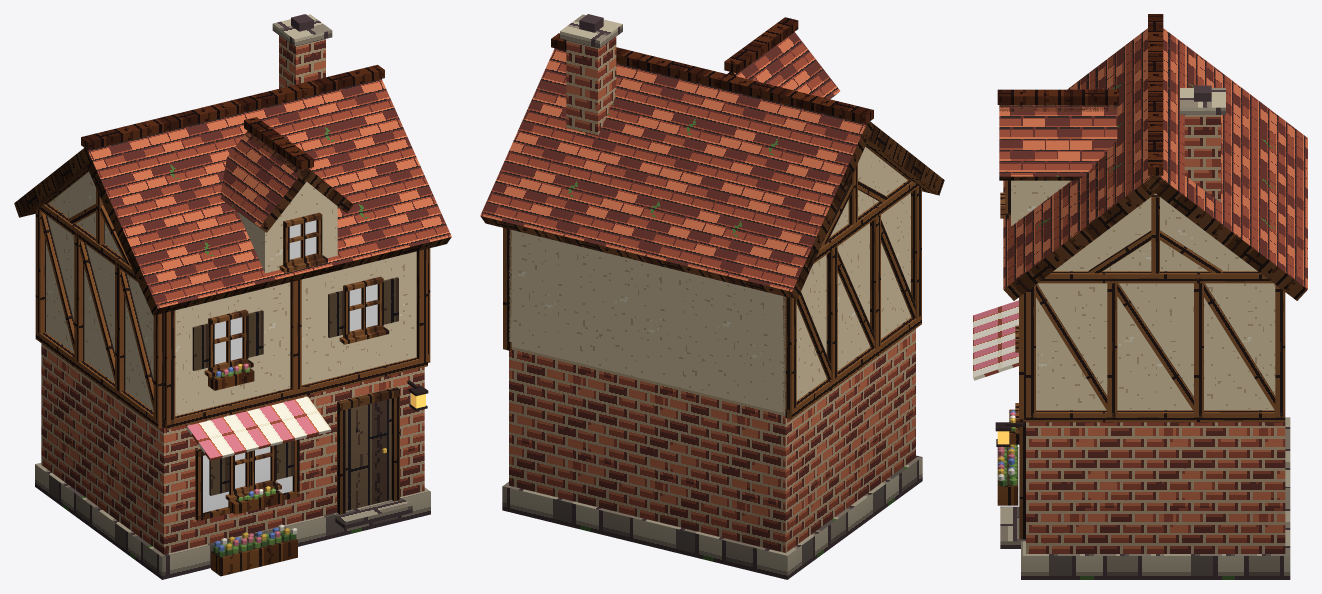
Rendered from cottage_shop.glb.
The picture shows the model from 3 angles, left to right: view 1: azimuth 30°, elevation 25°; view 2: azimuth 150°, elevation 25°; view 3: azimuth 270°, elevation 25°; orthographic projection. The views are drawn at different scales.
Parts seen in each view (by area): view 1: cottage_shop; view 2: cottage_shop; view 3: cottage_shop.
Part boxes in pixels (bbox=[...]): cottage_shop: bbox=[14, 14, 451, 579]; cottage_shop: bbox=[480, 14, 944, 579]; cottage_shop: bbox=[973, 14, 1307, 579].
Size of the model in its own units: 6.14 by 8.77 by 5.67.
Materials: 9 (6 with a texture image).
